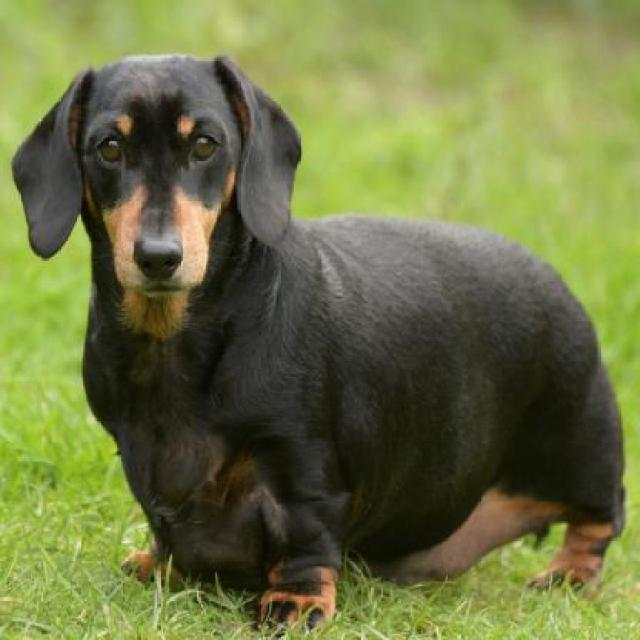Dog: (9, 46, 629, 639)
